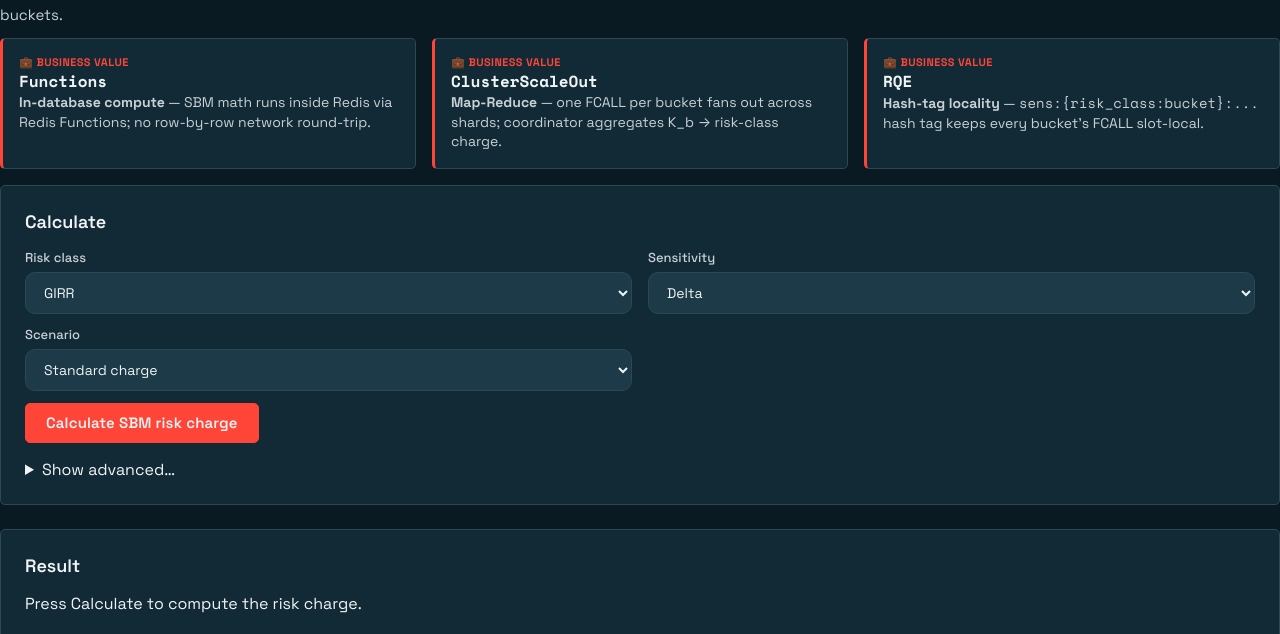
Test case: Wave 6.48.B — BucketDrilldown group-by control › resets to None when the drilldown is closed and a new bucket is opened
Click the button "Calculate SBM risk charge" at (142, 423), box [25, 403, 259, 443]
(page scrolled)
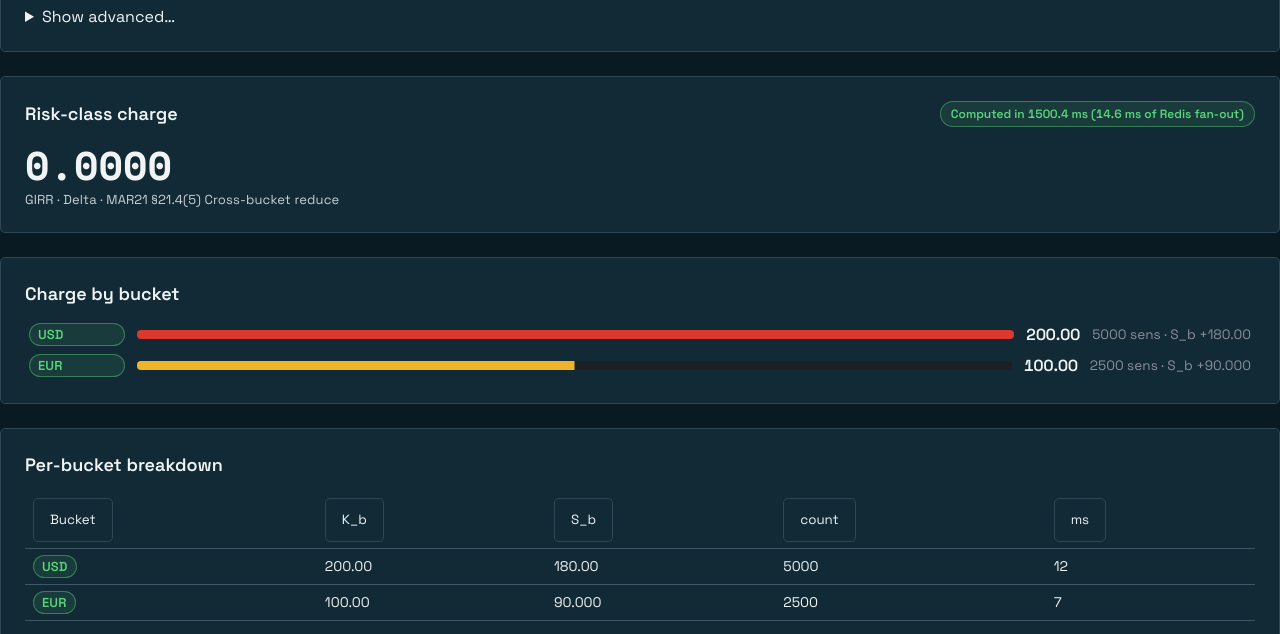
Check: the text "0.0000" is shown, box [25, 143, 172, 187]
Click the button with test id "bucket-chart-row" that starts with "USD" at (640, 334), box [25, 321, 1255, 348]
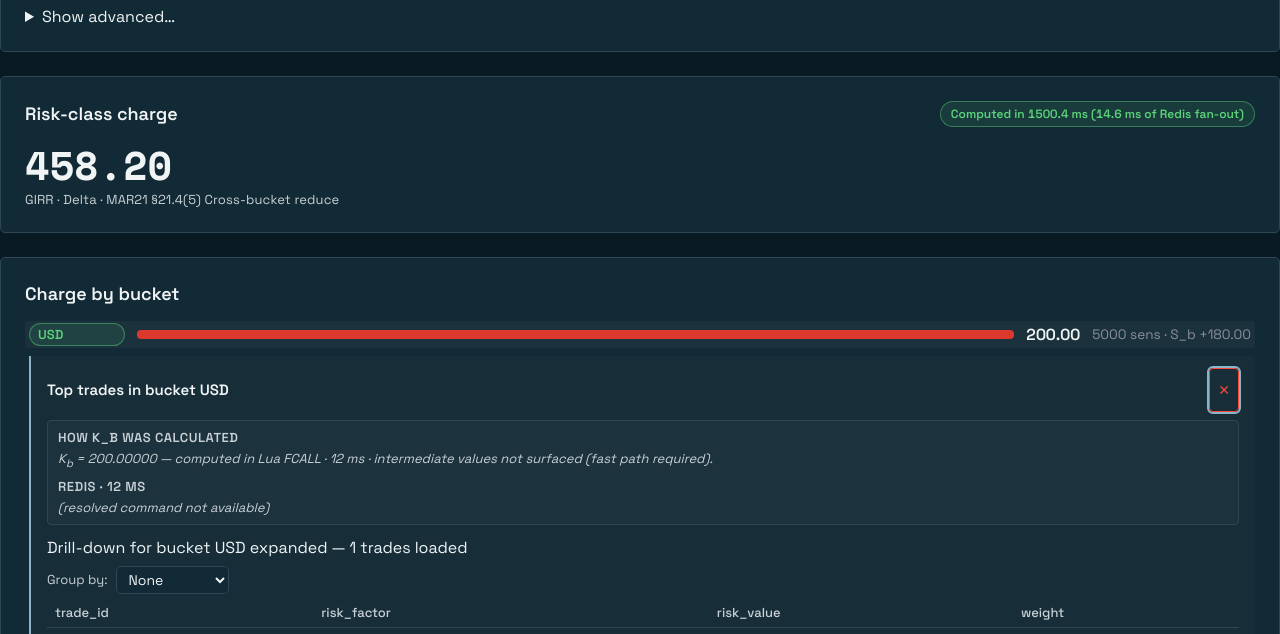
Check: the dropdown with test id "bucket-drilldown-groupby-select" is shown
Select "Risk Factor" in the dropdown with test id "bucket-drilldown-groupby-select" at (172, 580), box [116, 566, 229, 594]
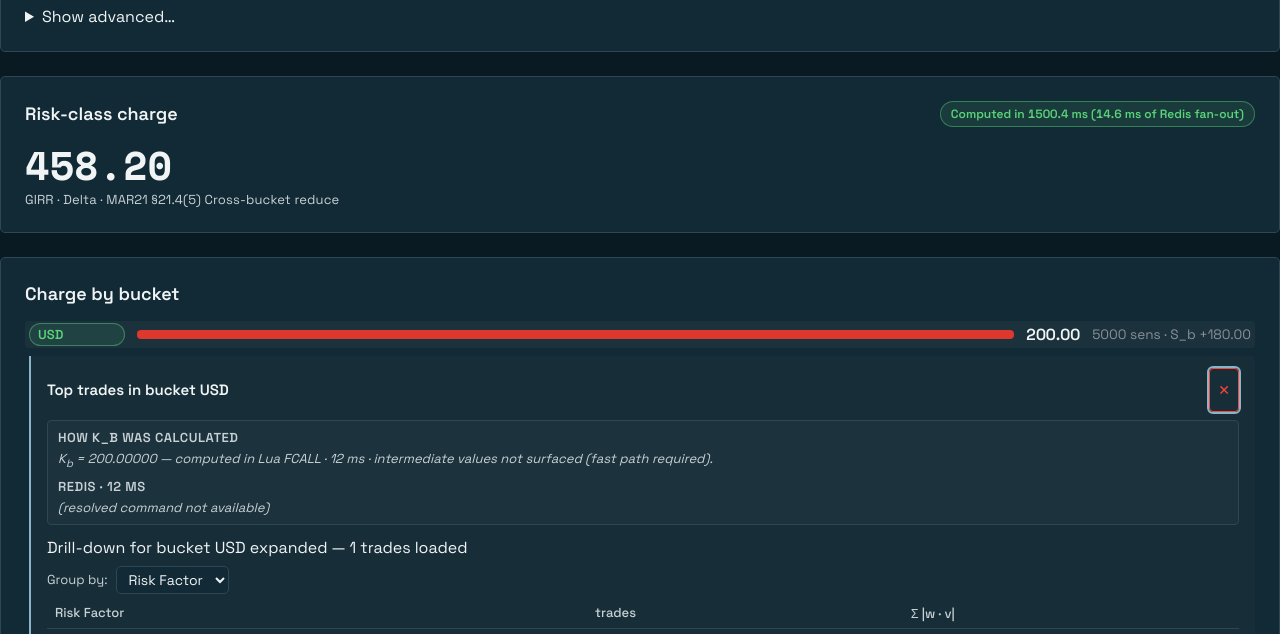
Click the button with test id "bucket-chart-row" at (640, 334), box [25, 321, 1255, 348]
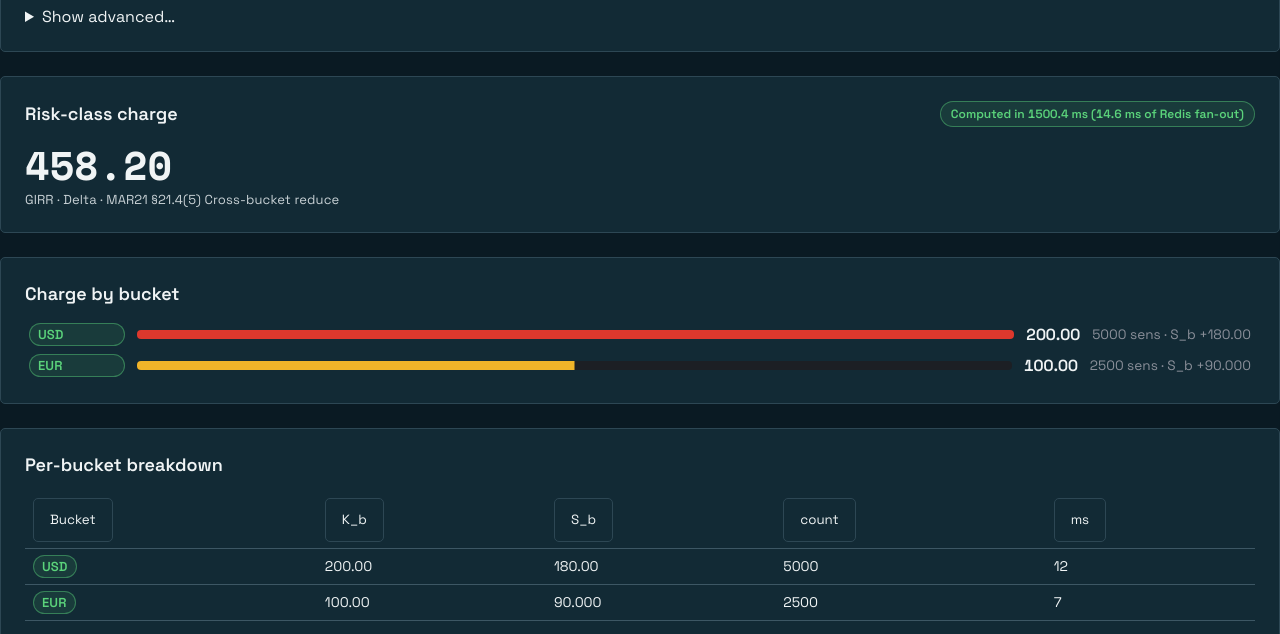
Click the button with test id "bucket-chart-row" that starts with "EUR" at (640, 366), box [25, 352, 1255, 379]
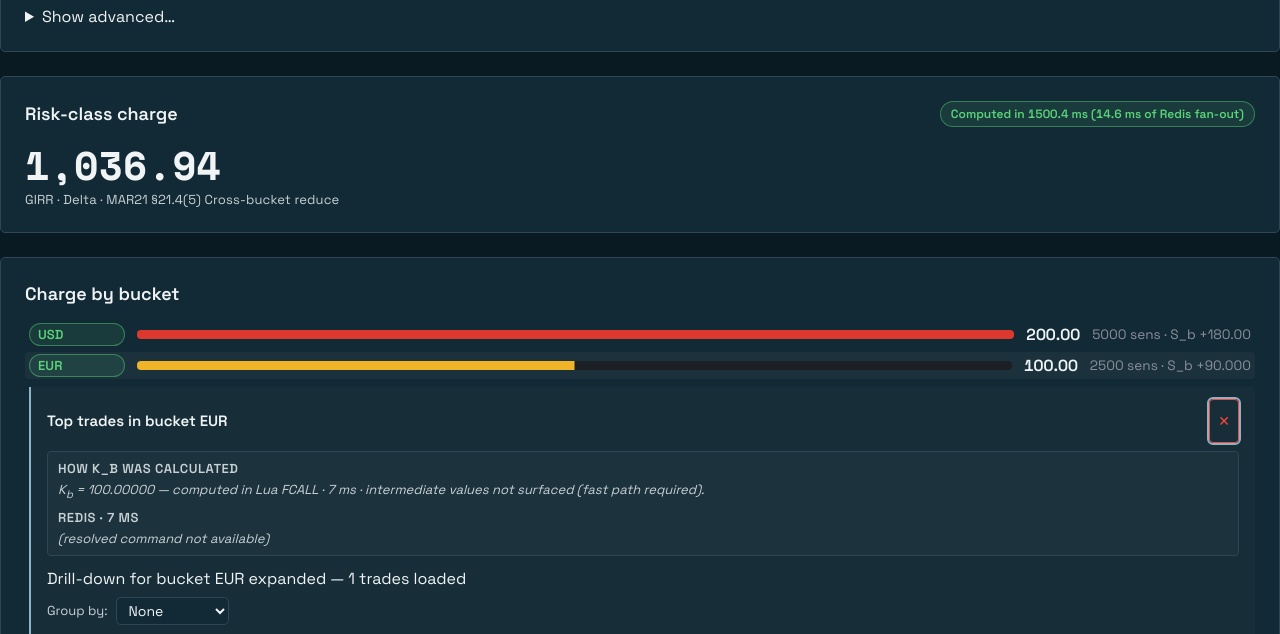
Check: the dropdown with test id "bucket-drilldown-groupby-select" shows "None", box [116, 597, 229, 625]
